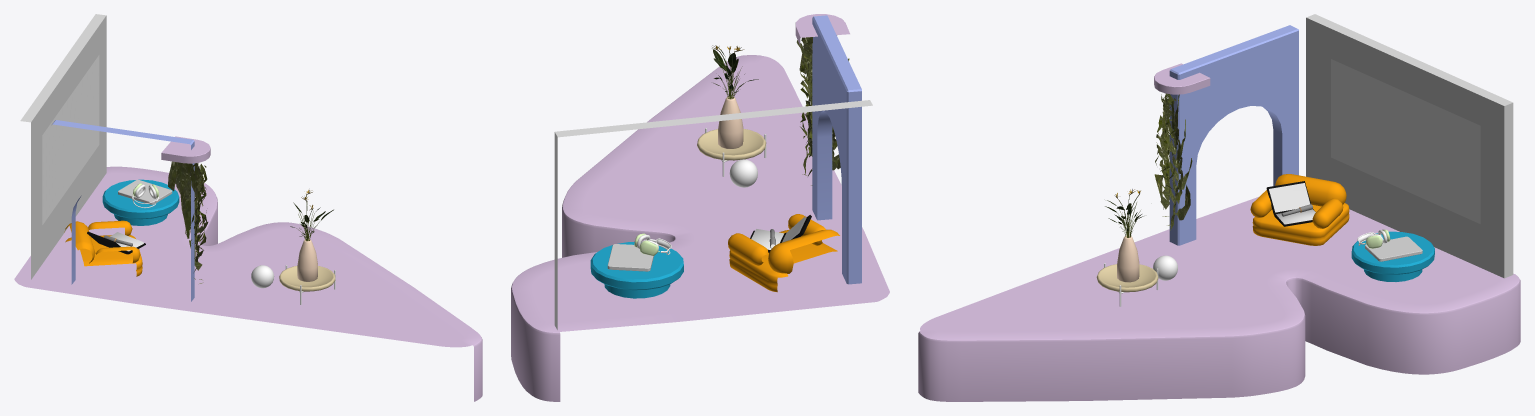
File: main-transformed.glb
The picture shows the model from 3 angles, left to right: view 1: azimuth 30°, elevation 25°; view 2: azimuth 150°, elevation 25°; view 3: azimuth 270°, elevation 25°; orthographic projection. The views are drawn at different scales.
Parts seen in each view (by area): view 1: mainBase, mainWall, mainNeonTitle, mainFallingLeaves, mainChair, mainTable, mainArch, mainDesignTableTop, mainVase, mainLaptop, mainPlant, mainBall; view 2: mainBase, mainArch, mainChair, mainTable, mainWall, mainFallingLeaves, mainDesignTableTop, mainLaptop, mainVase, mainPlant, mainBall, mainBookPages2; view 3: mainBase, mainWall, mainNeonTitle, mainArch, mainChair, mainFallingLeaves, mainTable, mainDesignTableTop, mainBookPages1, mainVase, mainLaptop, mainPlant.
Boxes of the visible parts, box(x1,y1,x2,y2) form: mainBase: box(14, 136, 482, 401); mainWall: box(20, 14, 106, 279); mainNeonTitle: box(42, 55, 99, 224); mainFallingLeaves: box(168, 161, 208, 283); mainChair: box(64, 220, 142, 276); mainTable: box(102, 179, 179, 225); mainArch: box(52, 120, 194, 301); mainDesignTableTop: box(279, 266, 335, 291); mainVase: box(297, 239, 317, 281); mainLaptop: box(118, 180, 172, 204); mainPlant: box(290, 190, 333, 241); mainBall: box(251, 265, 274, 288); mainBase: box(511, 14, 889, 401); mainArch: box(812, 15, 861, 284); mainChair: box(728, 214, 839, 292); mainTable: box(590, 242, 683, 298); mainWall: box(554, 100, 872, 329); mainFallingLeaves: box(796, 37, 849, 185); mainDesignTableTop: box(697, 129, 766, 160); mainLaptop: box(607, 244, 653, 271); mainVase: box(718, 96, 743, 148); mainPlant: box(712, 45, 758, 99); mainBall: box(729, 159, 757, 187); mainBookPages2: box(751, 229, 784, 249); mainBase: box(918, 63, 1520, 401); mainWall: box(1306, 14, 1513, 278); mainNeonTitle: box(1331, 59, 1480, 223); mainArch: box(1169, 25, 1298, 245); mainChair: box(1250, 174, 1349, 245); mainFallingLeaves: box(1154, 93, 1192, 230); mainTable: box(1351, 231, 1434, 281); mainDesignTableTop: box(1096, 264, 1158, 292); mainBookPages1: box(1269, 183, 1310, 212); mainVase: box(1117, 235, 1139, 282); mainLaptop: box(1365, 236, 1422, 261); mainPlant: box(1105, 189, 1143, 237).
Size of the model in its own units: 109 by 75.36 by 176.
Materials: 18 (2 with a texture image).
